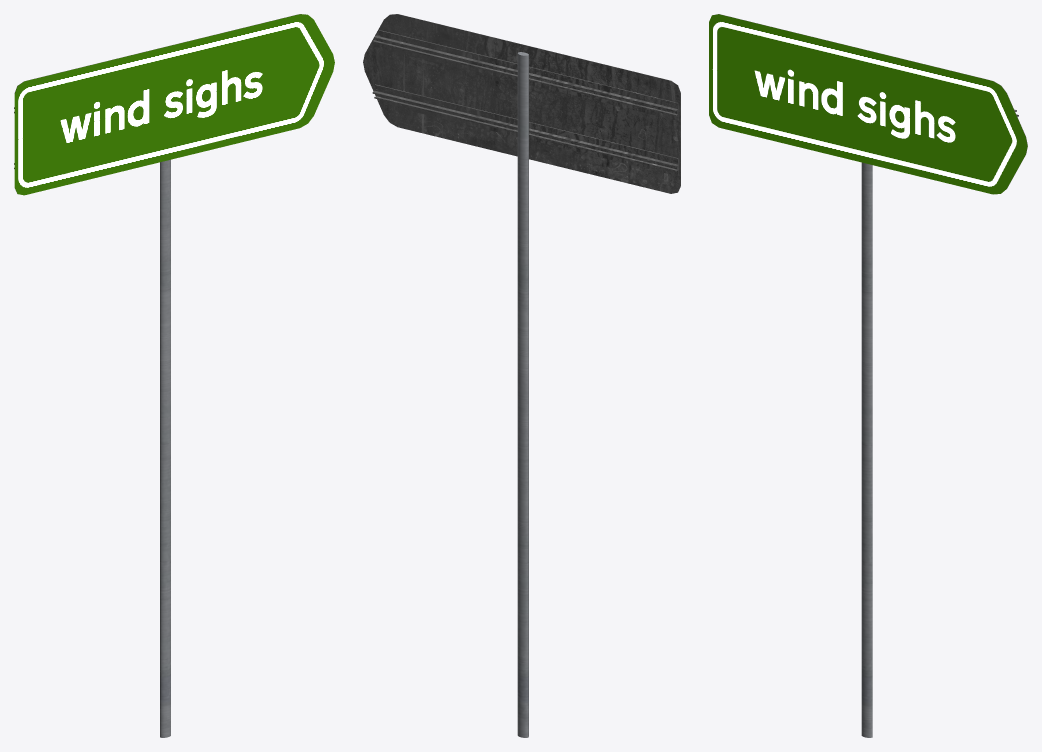
The model's file is wind-sighs.gltf.
The picture shows the model from 3 angles, left to right: view 1: azimuth 30°, elevation 25°; view 2: azimuth 150°, elevation 25°; view 3: azimuth 330°, elevation 25°; orthographic projection.
Parts seen in each view (by area): view 1: Sign_M_1.5_.021, PoleA_50.8_2800mm_A_.053; view 2: Sign_M_1.5_.021, PoleA_50.8_2800mm_A_.053; view 3: Sign_M_1.5_.021, PoleA_50.8_2800mm_A_.053.
Boxes of the visible parts, x1=… form: Sign_M_1.5_.021: x1=14, y1=14, x2=334, y2=195; PoleA_50.8_2800mm_A_.053: x1=160, y1=159, x2=170, y2=737; Sign_M_1.5_.021: x1=363, y1=14, x2=680, y2=193; PoleA_50.8_2800mm_A_.053: x1=517, y1=52, x2=528, y2=737; Sign_M_1.5_.021: x1=709, y1=14, x2=1027, y2=194; PoleA_50.8_2800mm_A_.053: x1=861, y1=162, x2=872, y2=737.
Bounding box in the file's own units: 1.02 × 2.11 × 0.0328.
Materials: 3 (3 with a texture image).
